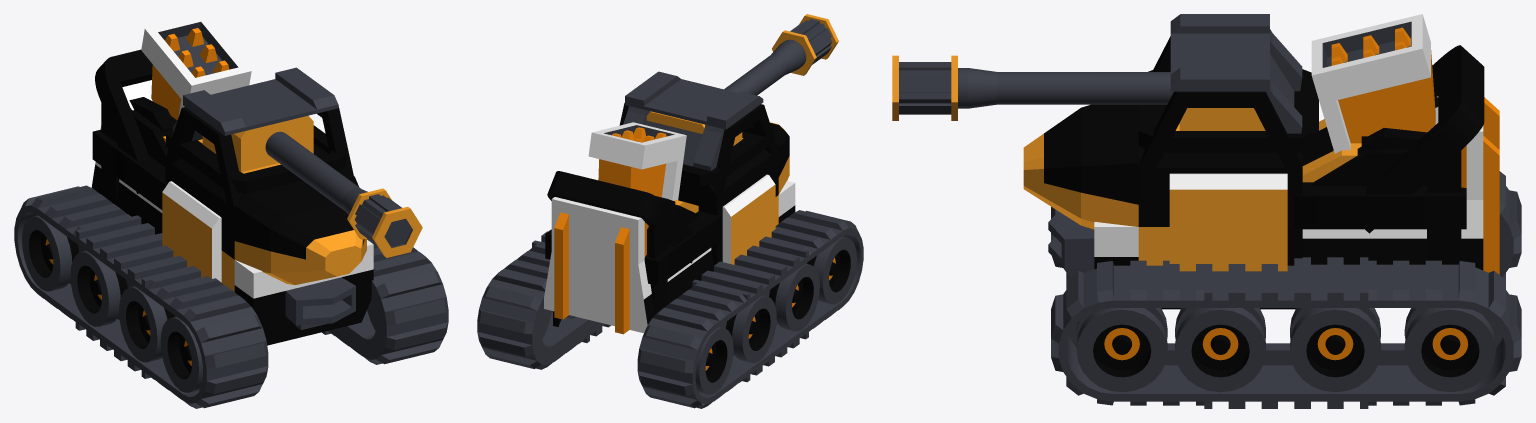
Rendered from Tank.fbx.
The picture shows the model from 3 angles, left to right: view 1: azimuth 30°, elevation 25°; view 2: azimuth 150°, elevation 25°; view 3: azimuth 270°, elevation 25°; orthographic projection. The views are drawn at different scales.
Parts seen in each view (by area): view 1: track_wideSmoothSide (×3), wheel_tank (×4), hull_frontNose, weapon_turretLarge, track_wideCenter, detailRail_front, body_standard, detail_rollbar, tank_skirtPlating, tank_skirtEdge, gear_bars, panel (+9 smaller); view 2: track_wideSmoothSide (×3), wheel_tank (×4), body_platform, body_topBackVan, weapon_turretLarge, track_wideCenter (×2), detail_rollbar, detailRail_front, tank_skirtPlating, tank_skirtEdge, body_topBackCargo, attachment_barrelEnd (+8 smaller); view 3: wheel_tank (×4), track_wideSmoothSide (×3), weapon_turretLarge, track_wideCenter, hull_frontNose, tank_skirtPlating, detail_rollbar, tank_skirtEdge, detailRail_front, attachment_barrelEnd, body_topBackVan, body_topBackCargo (+10 smaller).
Part boxes in pixels (x1,y1,x2,y2): track_wideSmoothSide (×3): [14, 185, 448, 408]; wheel_tank (×4): [22, 215, 202, 392]; hull_frontNose: [234, 170, 366, 284]; weapon_turretLarge: [141, 14, 251, 119]; track_wideCenter: [75, 215, 196, 378]; detailRail_front: [183, 67, 338, 135]; body_standard: [234, 240, 373, 345]; detail_rollbar: [95, 49, 152, 200]; tank_skirtPlating: [162, 181, 221, 282]; tank_skirtEdge: [92, 110, 168, 209]; gear_bars: [165, 106, 353, 209]; panel: [166, 125, 346, 193]; track_wideSmoothSide (×3): [477, 210, 863, 408]; wheel_tank (×4): [695, 236, 856, 394]; body_platform: [551, 197, 648, 334]; body_topBackVan: [544, 244, 713, 333]; weapon_turretLarge: [588, 122, 686, 200]; track_wideCenter (×2): [532, 231, 808, 382]; detail_rollbar: [547, 171, 692, 326]; detailRail_front: [625, 71, 763, 129]; tank_skirtPlating: [722, 174, 775, 264]; tank_skirtEdge: [644, 204, 721, 285]; body_topBackCargo: [678, 149, 778, 236]; attachment_barrelEnd: [724, 39, 806, 95]; wheel_tank (×4): [1076, 308, 1495, 392]; track_wideSmoothSide (×3): [1051, 171, 1521, 405]; weapon_turretLarge: [1311, 14, 1435, 153]; track_wideCenter: [1204, 257, 1368, 408]; hull_frontNose: [1023, 104, 1138, 229]; tank_skirtPlating: [1169, 173, 1287, 271]; detail_rollbar: [1365, 45, 1484, 262]; tank_skirtEdge: [1294, 146, 1466, 229]; detailRail_front: [1170, 14, 1269, 91]; attachment_barrelEnd: [958, 68, 1173, 108]; body_topBackVan: [1302, 200, 1483, 270]; body_topBackCargo: [1138, 146, 1302, 226].
Size of the model in its own units: 20.16 by 20.73 by 38.34.
